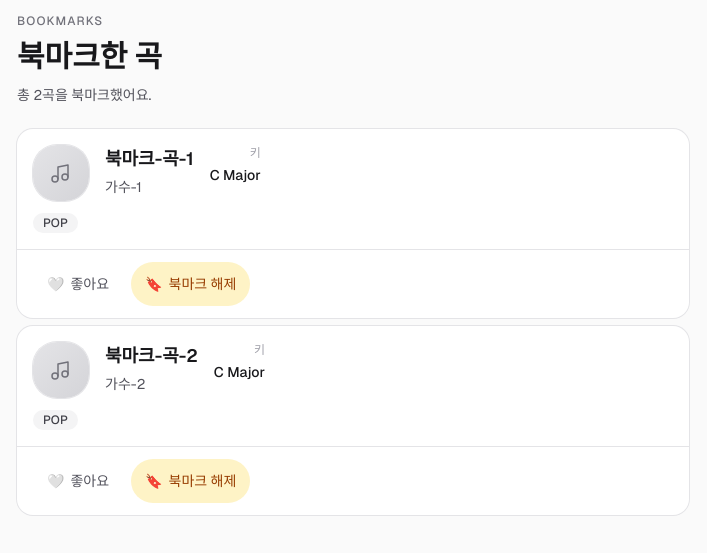
Test case: /bookmarks 페이지 mutation race 가드 (PR #993 후속, PR #1048 패턴 확장) › 시나리오 3: 401 응답 → 해당 song 카드에만 alert 노출 + store 롤백 (다른 카드 오염 없음)
Click the button with aria-label "북마크-곡-1 북마크 해제": (191,284) [131,262,250,306]
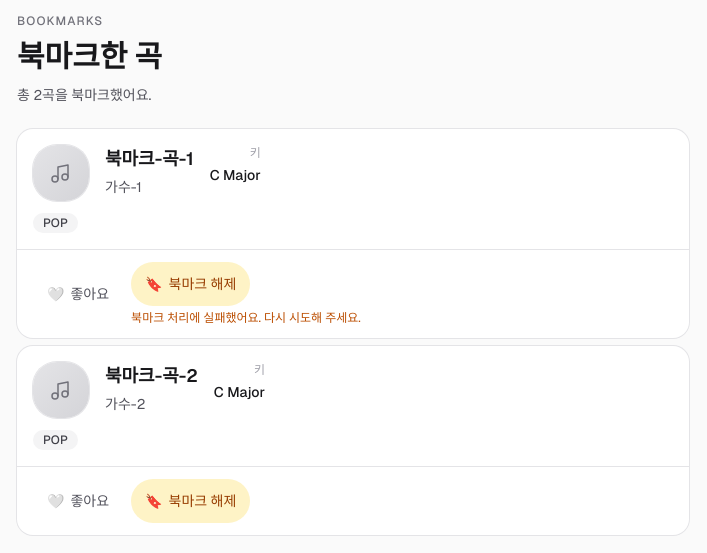
Check: the message "북마크 처리에 실패했어요. 다시 시도해 주세요." is shown, box [131,310,361,326]
